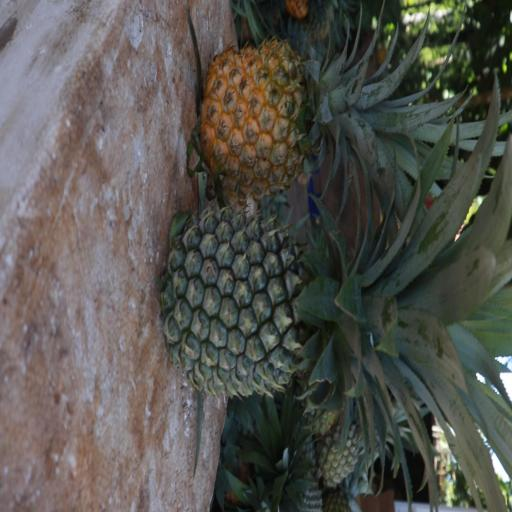Pineapple - v8 v1: (198, 48, 436, 188)
